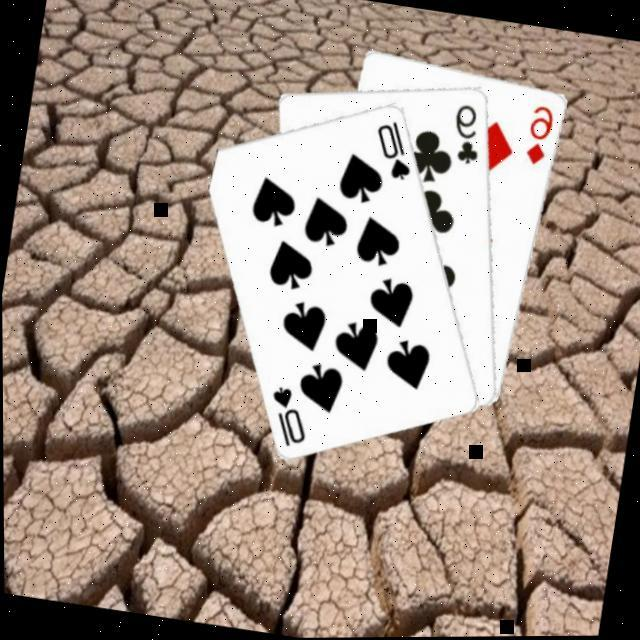10S: (262, 380, 318, 451), (368, 114, 422, 184)
6D: (523, 101, 561, 170)
9C: (447, 99, 491, 169)
